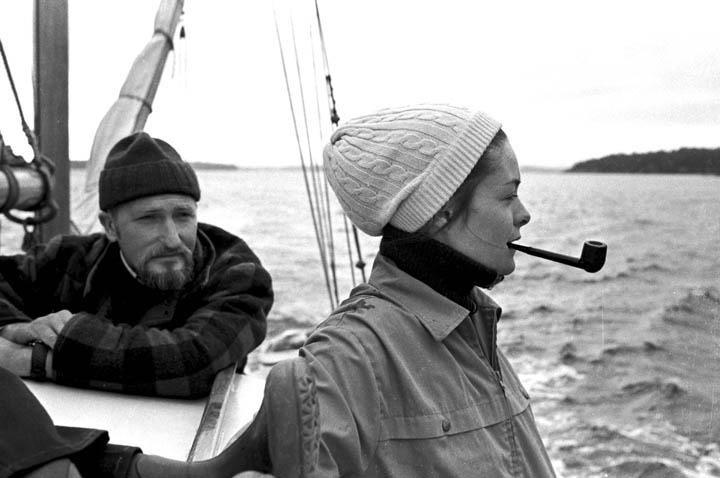trubka: (507, 240, 608, 273)
